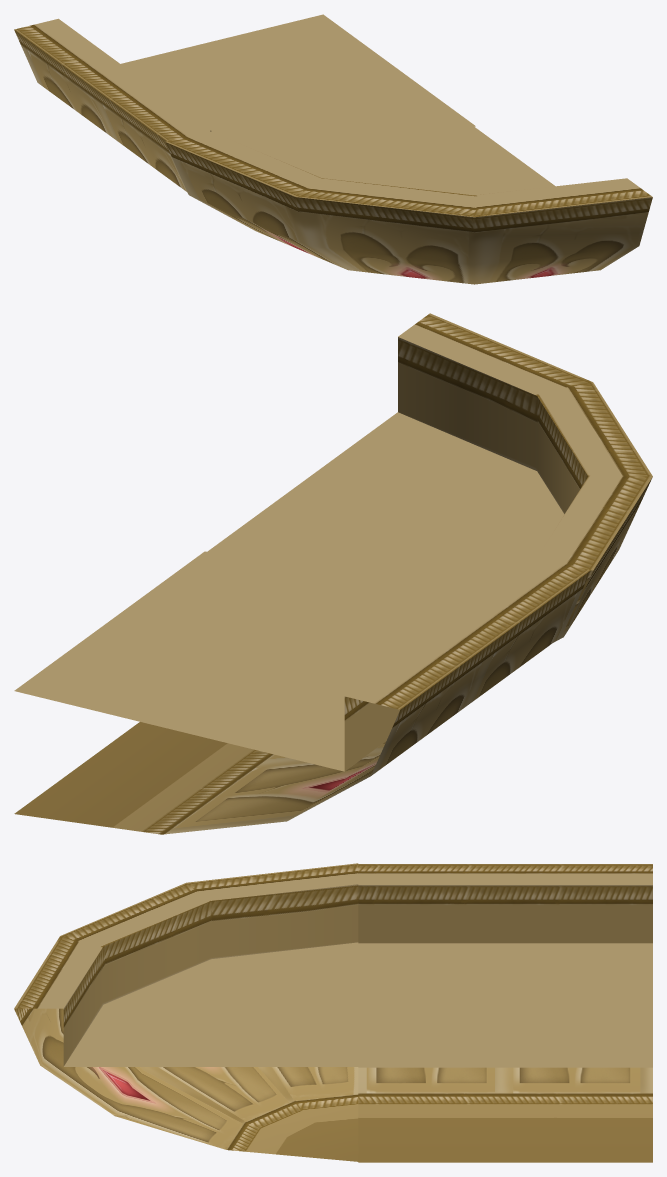
Rendered from Balcony_Big.fbx.
3 renders of one model, top to bottom at view 1: azimuth 30°, elevation 25°; view 2: azimuth 150°, elevation 25°; view 3: azimuth 270°, elevation 25°, orthographic. The views are drawn at different scales.
Visible parts, largest first — view 1: PUZ_Balcony_8x8_2, PUZ_Balcony_STR_8x8_1; view 2: PUZ_Balcony_STR_8x8_1, PUZ_Balcony_8x8_2; view 3: PUZ_Balcony_STR_8x8_1, PUZ_Balcony_8x8_2.
Part boxes in pixels (x1=…): PUZ_Balcony_8x8_2: x1=165, y1=126, x2=652, y2=284; PUZ_Balcony_STR_8x8_1: x1=14, y1=14, x2=475, y2=192; PUZ_Balcony_STR_8x8_1: x1=14, y1=551, x2=590, y2=834; PUZ_Balcony_8x8_2: x1=207, y1=313, x2=652, y2=642; PUZ_Balcony_STR_8x8_1: x1=358, y1=864, x2=652, y2=1162; PUZ_Balcony_8x8_2: x1=14, y1=863, x2=358, y2=1161.
Size of the model in its own units: 0.047 by 0.0229 by 0.0867.
